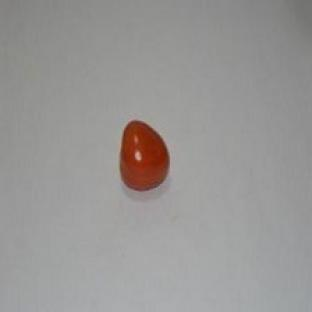Tomato: (120, 122, 169, 190)
